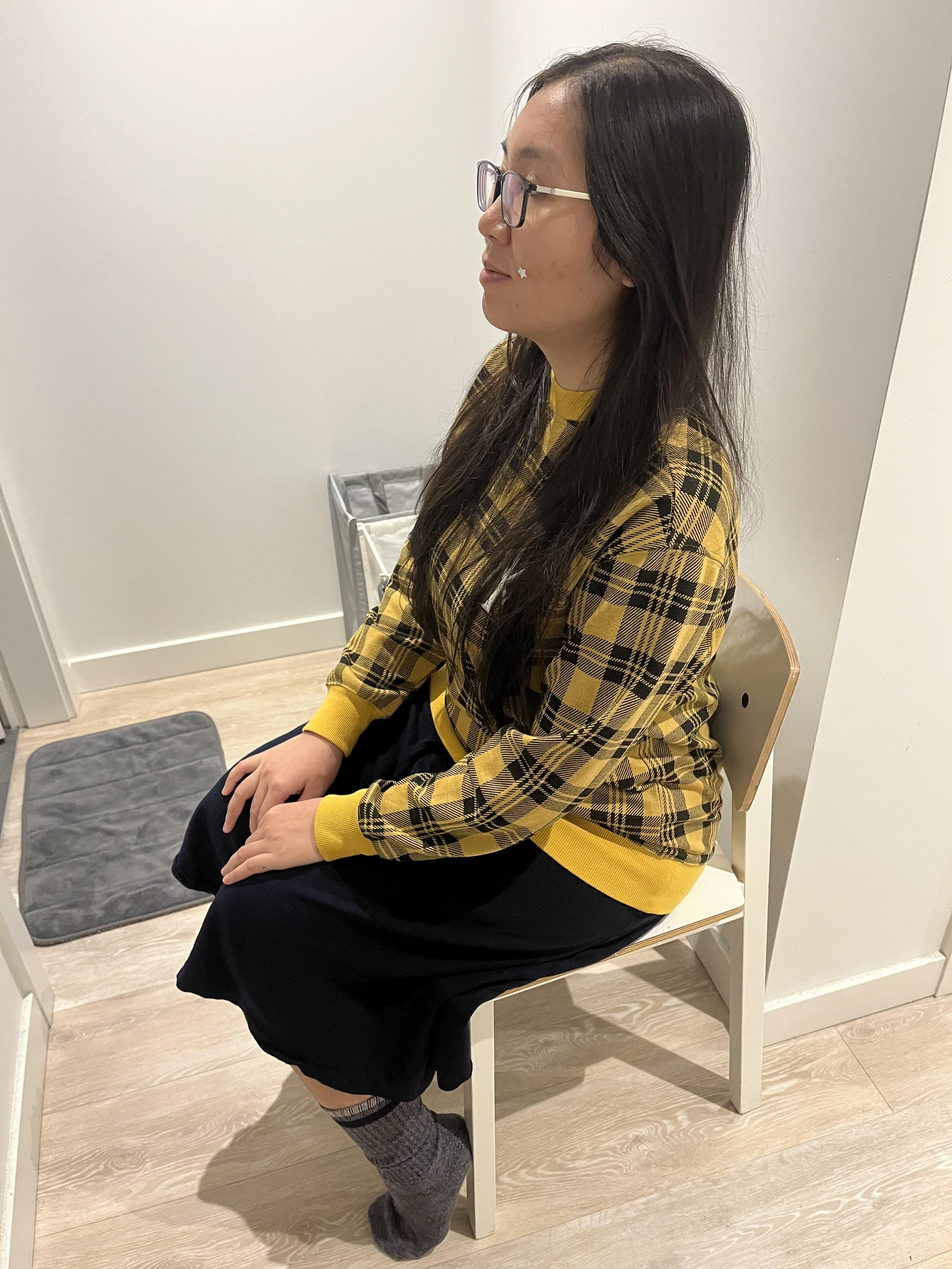GoodPosture: (172, 40, 748, 1259)
